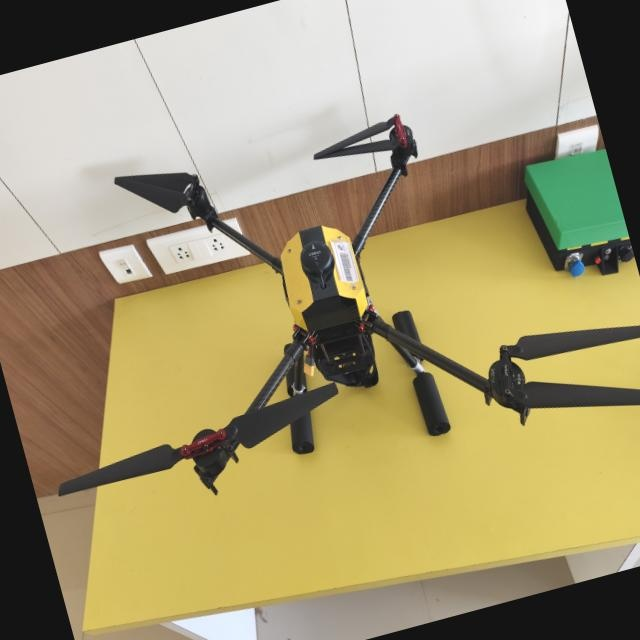quadcopter: (0, 46, 640, 576)
